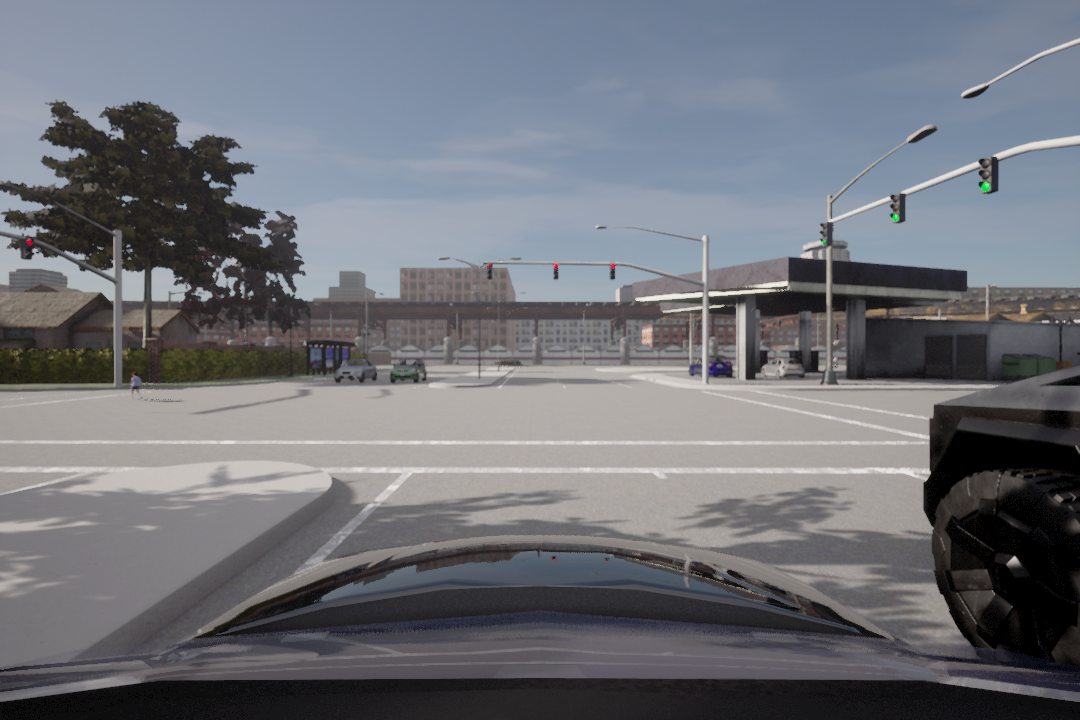TrafficLight: (974, 153, 1005, 194), (817, 220, 834, 251), (891, 191, 906, 222), (551, 261, 561, 282), (486, 261, 495, 281), (607, 262, 617, 279)
